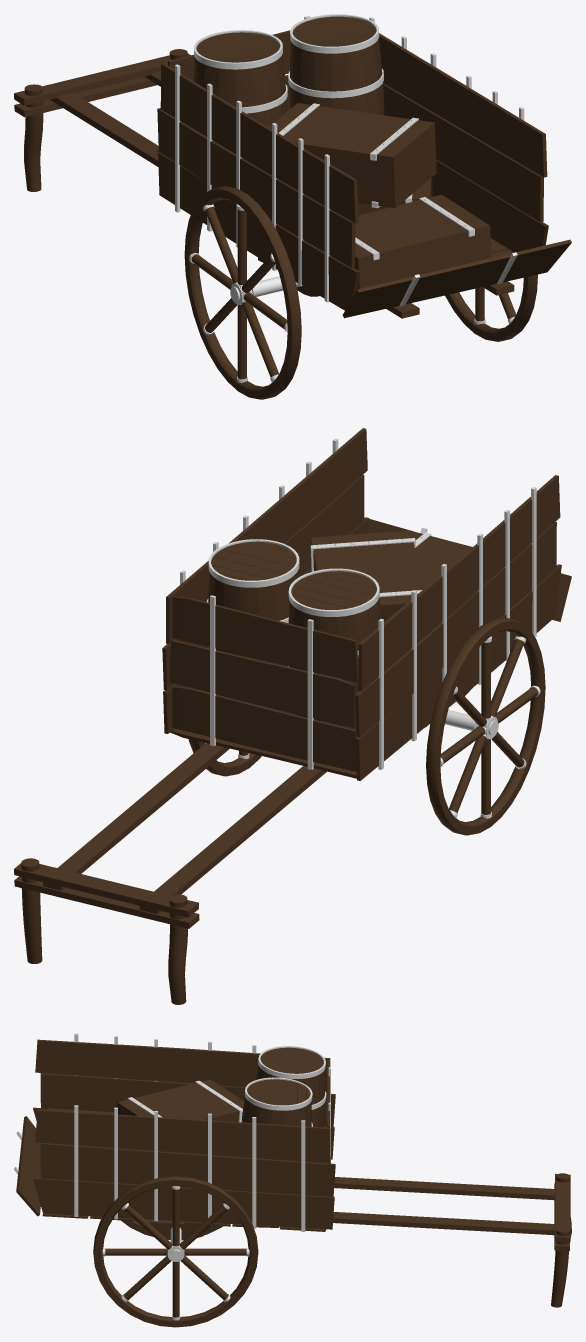
Rendered from cart.fbx.
The picture shows the model from 3 angles, top to bottom: view 1: azimuth 30°, elevation 25°; view 2: azimuth 150°, elevation 25°; view 3: azimuth 270°, elevation 25°; orthographic projection. The views are drawn at different scales.
Visible parts, largest first — view 1: Cylinder.002; view 2: Cylinder.002; view 3: Cylinder.002.
Part boxes in pixels (left/top/right/bottom): Cylinder.002: left=14, top=14, right=571, bottom=399; Cylinder.002: left=14, top=428, right=571, bottom=1004; Cylinder.002: left=14, top=1033, right=571, bottom=1327.
Bounding box in the file's own units: 604 × 629 × 1498.
